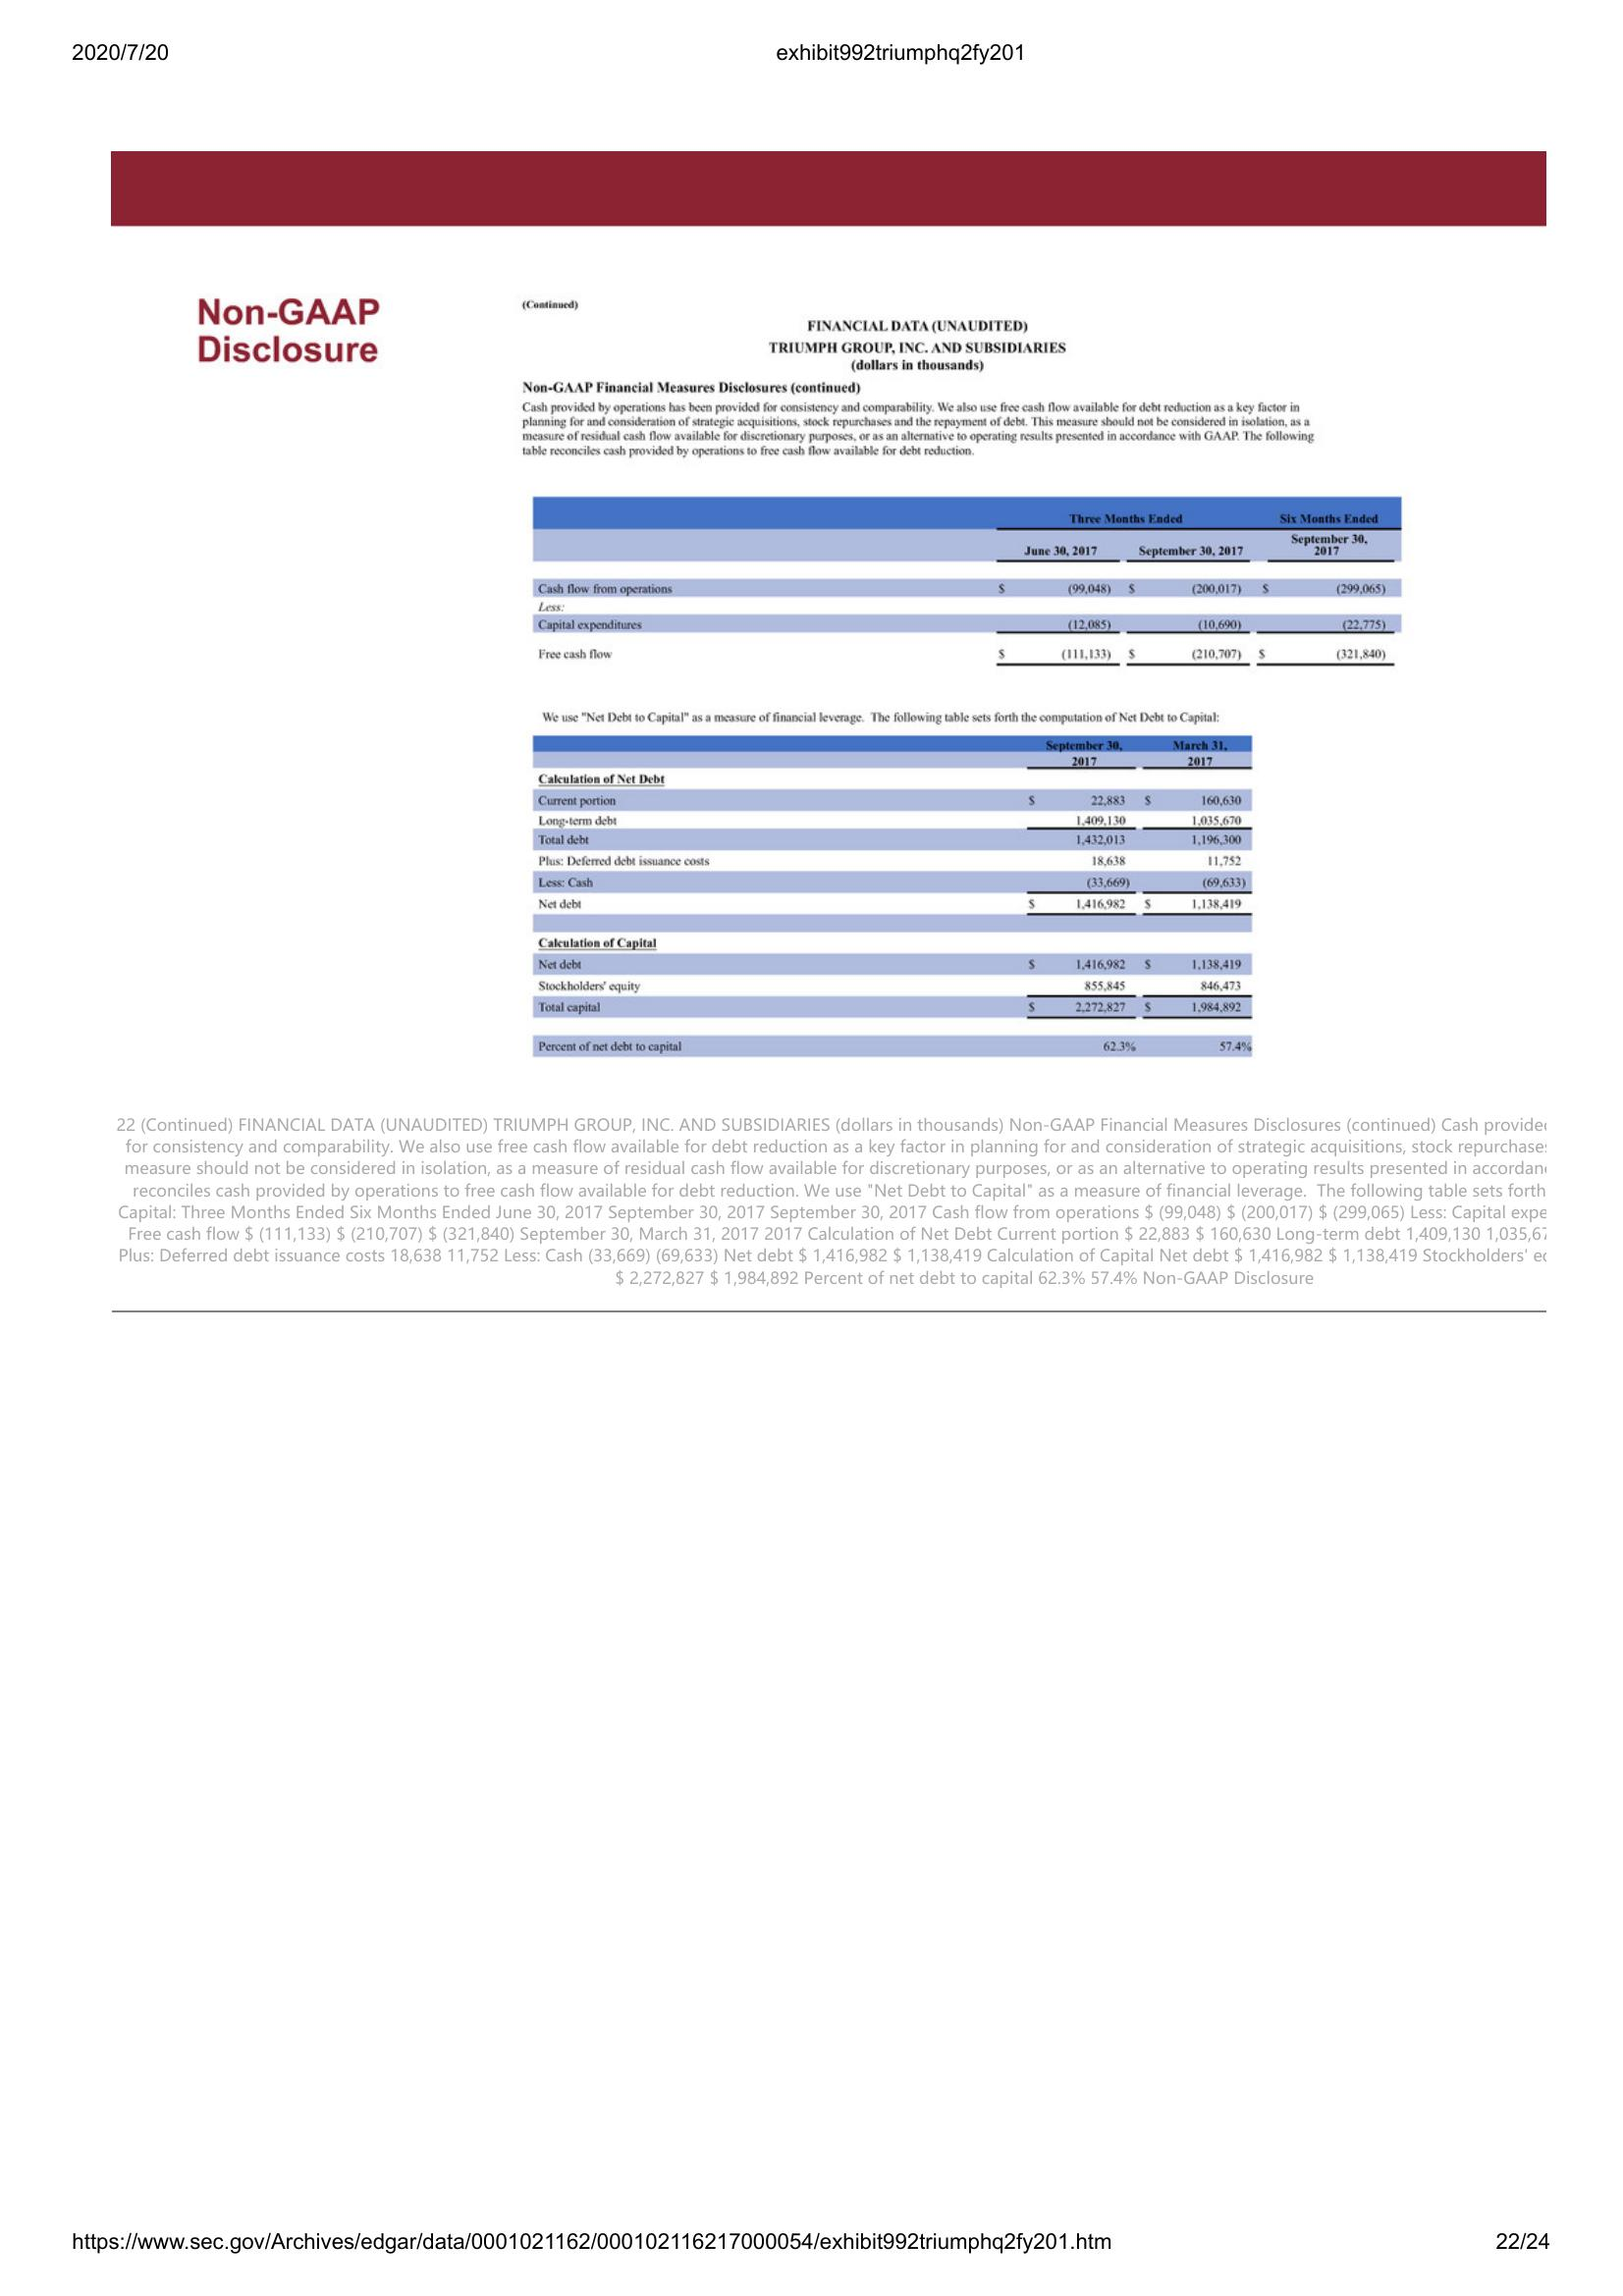table: (532, 725, 1259, 1065), (527, 486, 1405, 672)
